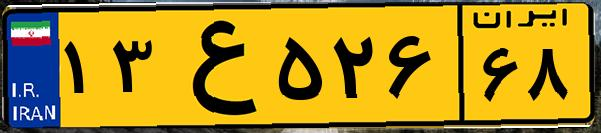1: (57, 26, 110, 100)
2: (330, 28, 385, 110)
3: (110, 28, 158, 98)
5: (270, 28, 330, 110)
6: (385, 28, 445, 110), (475, 38, 525, 113)
8: (525, 38, 570, 115)
ع: (158, 12, 270, 120)
